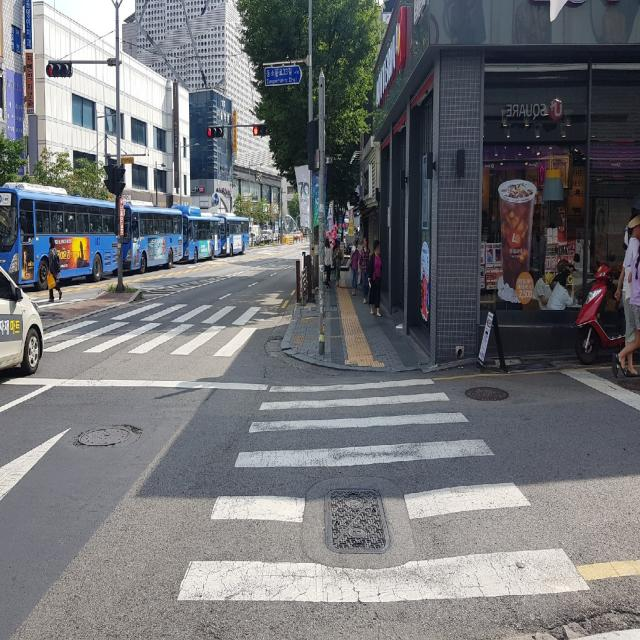횡단보도: (174, 374, 592, 606), (27, 282, 277, 366)
